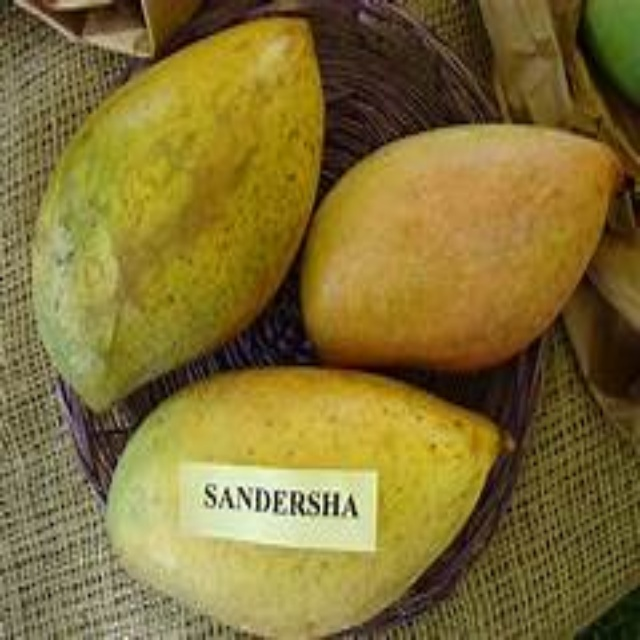mango: (38, 18, 320, 408), (101, 367, 503, 630), (299, 122, 616, 380)
